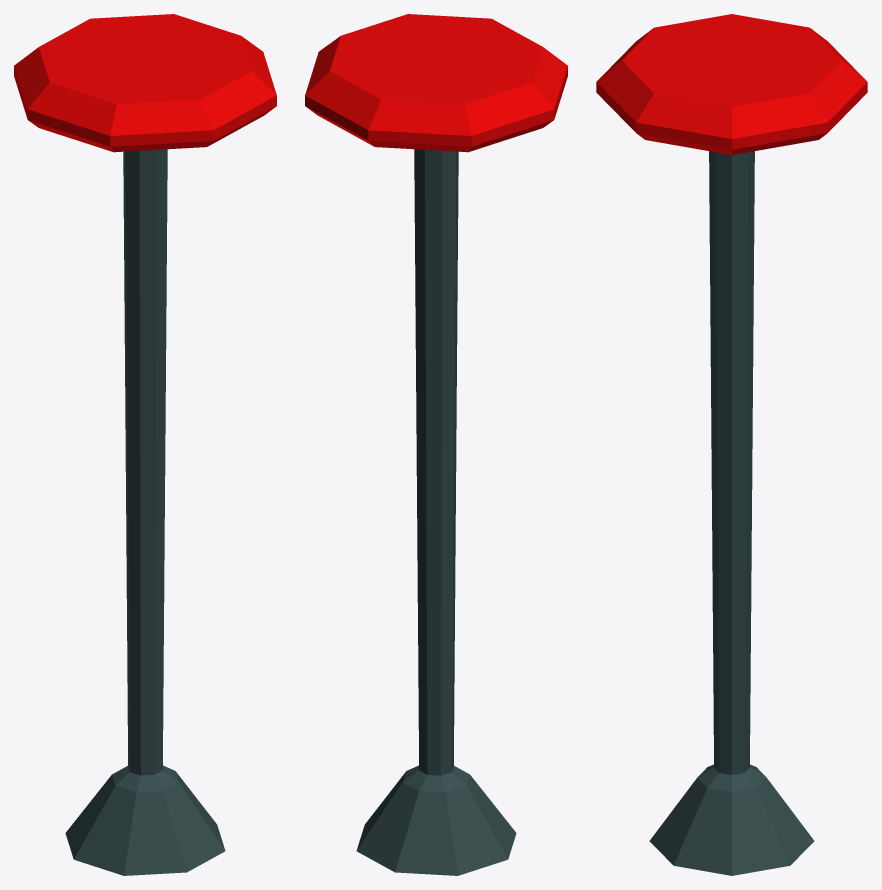
Rendered from Taburete.fbx.
3 views of the same model, side by side, from view 1: azimuth 30°, elevation 25°; view 2: azimuth 150°, elevation 25°; view 3: azimuth 270°, elevation 25° (orthographic).
Parts seen in each view (by area): view 1: Taburete; view 2: Taburete; view 3: Taburete.
Boxes of the visible parts, x1=… form: Taburete: x1=14, y1=14, x2=276, y2=875; Taburete: x1=305, y1=14, x2=567, y2=875; Taburete: x1=596, y1=14, x2=867, y2=875.
Bounding box in the file's own units: 25.9 × 82.25 × 25.9.
